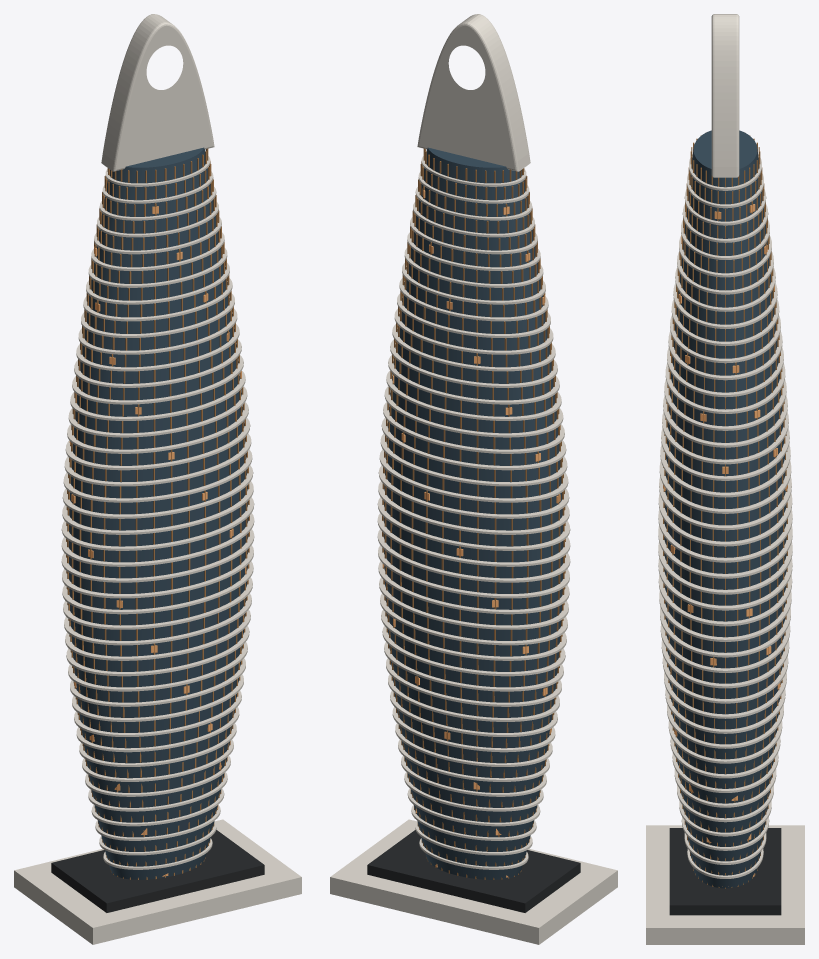
The model's file is mumbai-eon.glb.
3 renders of one model, left to right at view 1: azimuth 30°, elevation 25°; view 2: azimuth 150°, elevation 25°; view 3: azimuth 270°, elevation 25°, orthographic.
Parts seen in each view (by area): view 1: Tapered balcony and glazing rings, Podium, Sail crown with through opening; view 2: Tapered balcony and glazing rings, Podium, Sail crown with through opening; view 3: Tapered balcony and glazing rings, Podium, Sail crown with through opening.
Part boxes in pixels (left/top/right/bottom): Tapered balcony and glazing rings: left=61, top=147, right=254, bottom=879; Podium: left=14, top=819, right=301, bottom=944; Sail crown with through opening: left=101, top=14, right=214, bottom=171; Tapered balcony and glazing rings: left=377, top=147, right=570, bottom=879; Podium: left=330, top=819, right=617, bottom=944; Sail crown with through opening: left=417, top=14, right=530, bottom=171; Tapered balcony and glazing rings: left=658, top=130, right=792, bottom=888; Podium: left=646, top=825, right=804, bottom=944; Sail crown with through opening: left=711, top=14, right=739, bottom=177.
Size of the model in its own units: 4.9 by 19.55 by 3.2.
